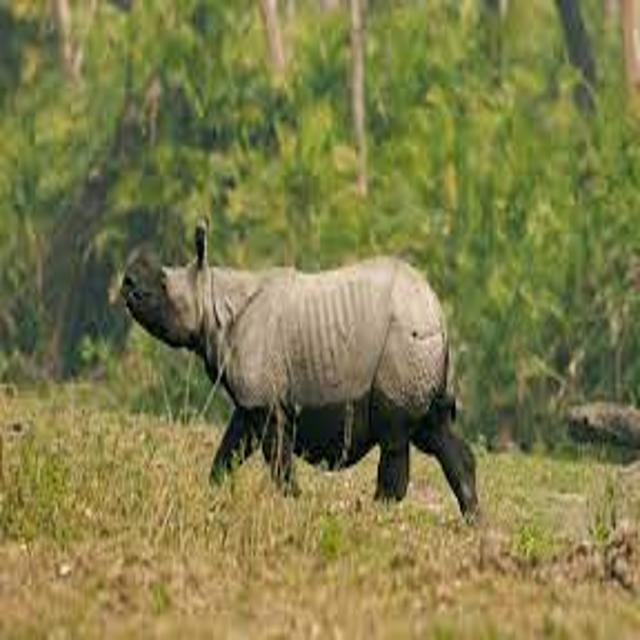Rinoceros: (96, 208, 522, 530)
